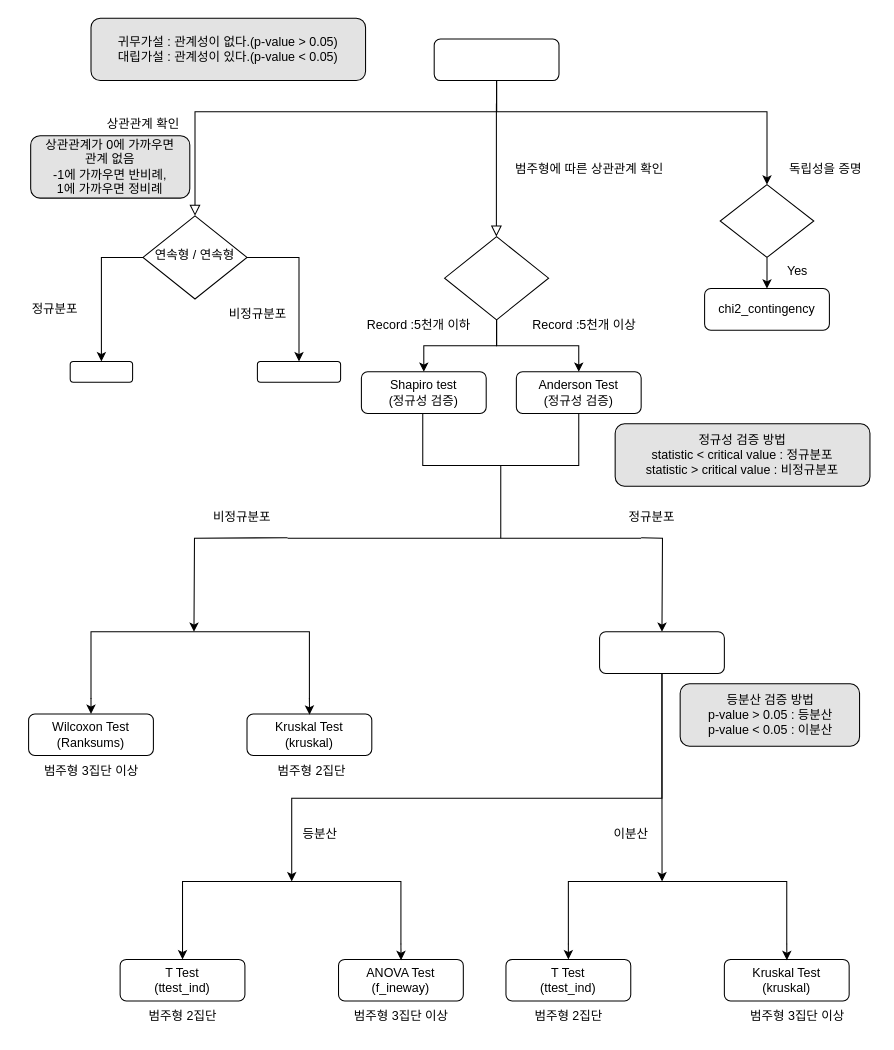
Image size: 894x1050. Some labels were removed from this diagram. Each missing label, with the box of its shape:
levene (등분산 검증): (599, 631, 724, 673)
pearsonr: (69, 360, 133, 382)
spearmanr: (256, 360, 341, 382)
다변수 검증: (433, 38, 559, 81)
범주형/범주형: (719, 184, 814, 257)
범주형/연속형: (444, 236, 549, 320)
